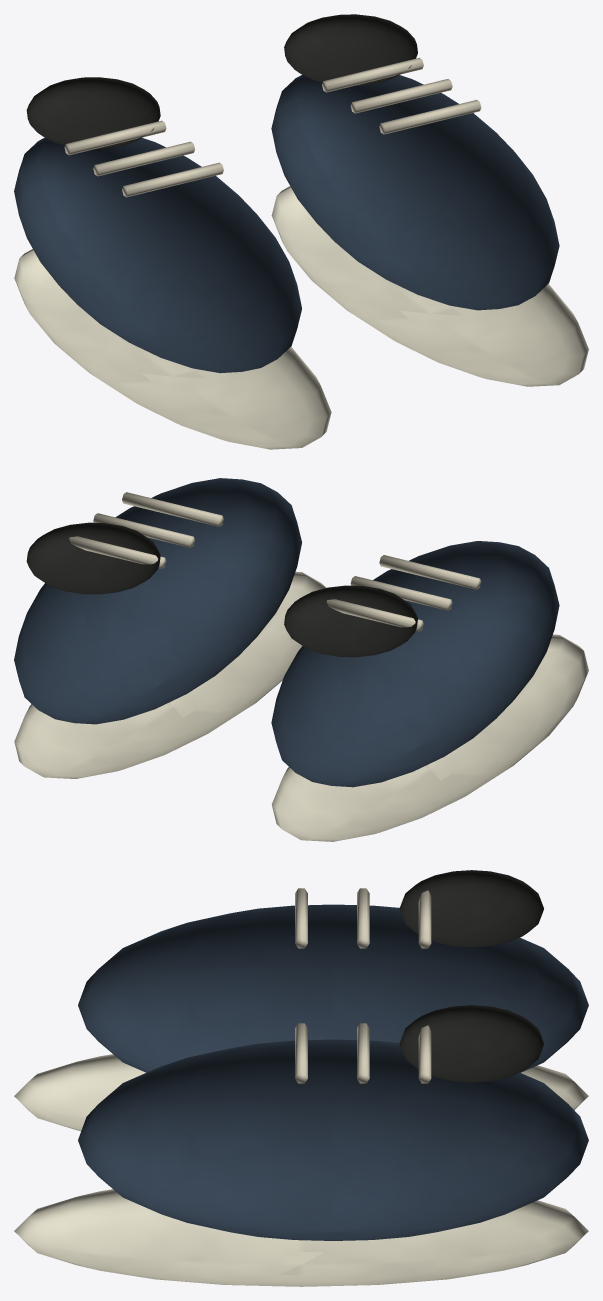
The model's file is sneakers_pair.glb.
3 views of the same model, one above another, from view 1: azimuth 30°, elevation 25°; view 2: azimuth 150°, elevation 25°; view 3: azimuth 270°, elevation 25° (orthographic). The views are drawn at different scales.
Visible parts, largest first — view 1: sneakers_pair_Mesh; view 2: sneakers_pair_Mesh; view 3: sneakers_pair_Mesh.
Part boxes in pixels (x1,y1,x2,y2): sneakers_pair_Mesh: (14,14,588,449); sneakers_pair_Mesh: (14,478,588,841); sneakers_pair_Mesh: (14,870,588,1286).
Bounding box in the file's own units: 0.25 × 0.127 × 0.27.
Materials: 4 (4 with a texture image).
